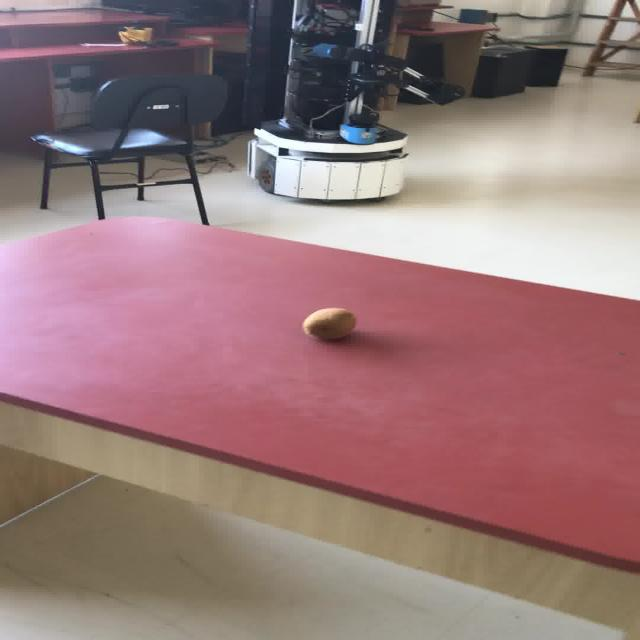kiwi: (301, 307, 356, 340)
